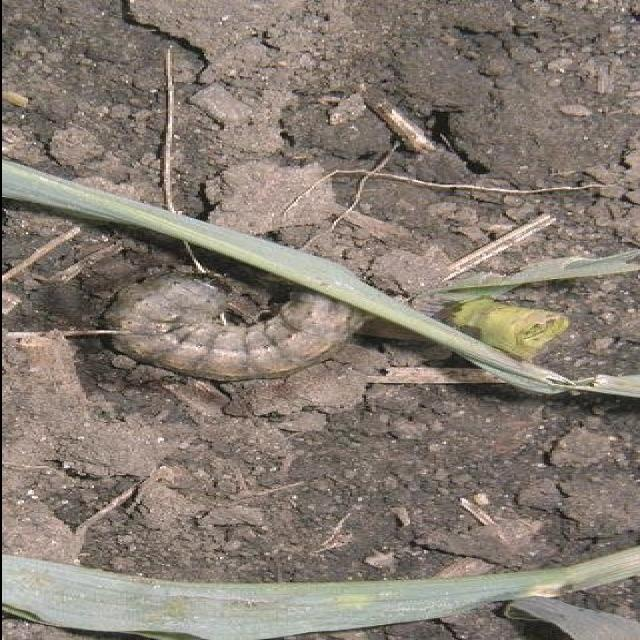black cutworm: (95, 274, 367, 386)
